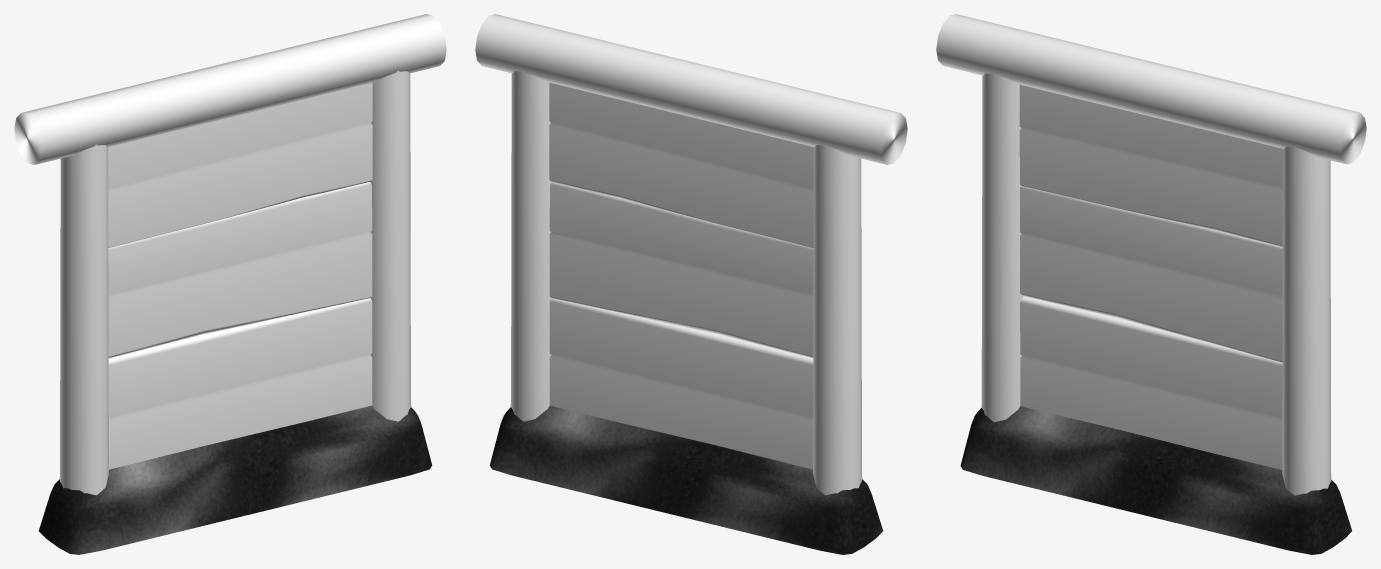
The model's file is WildWestBarrierShort.glb.
3 views of the same model, side by side, from view 1: azimuth 30°, elevation 25°; view 2: azimuth 150°, elevation 25°; view 3: azimuth 330°, elevation 25° (orthographic).
Parts seen in each view (by area): view 1: BarrierHologram, SmokeShort; view 2: BarrierHologram, SmokeShort; view 3: BarrierHologram, SmokeShort.
Boxes of the visible parts, box(x1,y1,x2,y2) form: BarrierHologram: box(14, 14, 446, 495); SmokeShort: box(38, 405, 432, 554); BarrierHologram: box(475, 14, 907, 495); SmokeShort: box(489, 405, 883, 554); BarrierHologram: box(936, 14, 1366, 495); SmokeShort: box(960, 406, 1351, 554).
Bounding box in the file's own units: 1.19 × 1.23 × 0.2068.
Materials: 3 (2 with a texture image).
